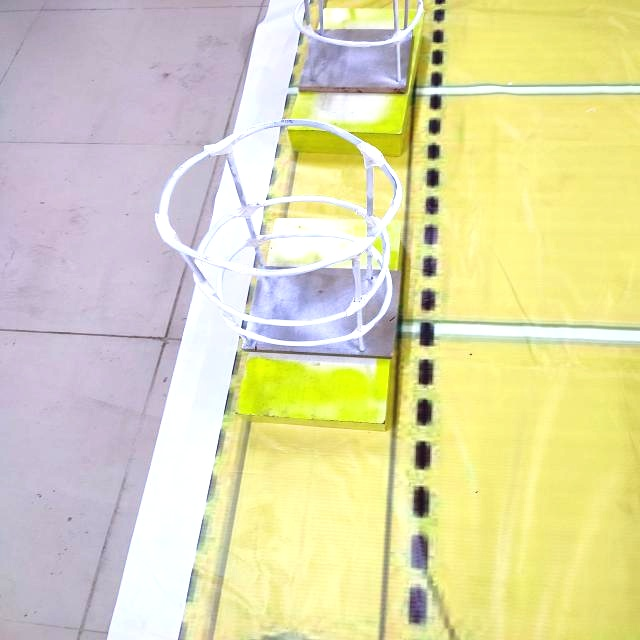silo: (130, 101, 452, 393)
